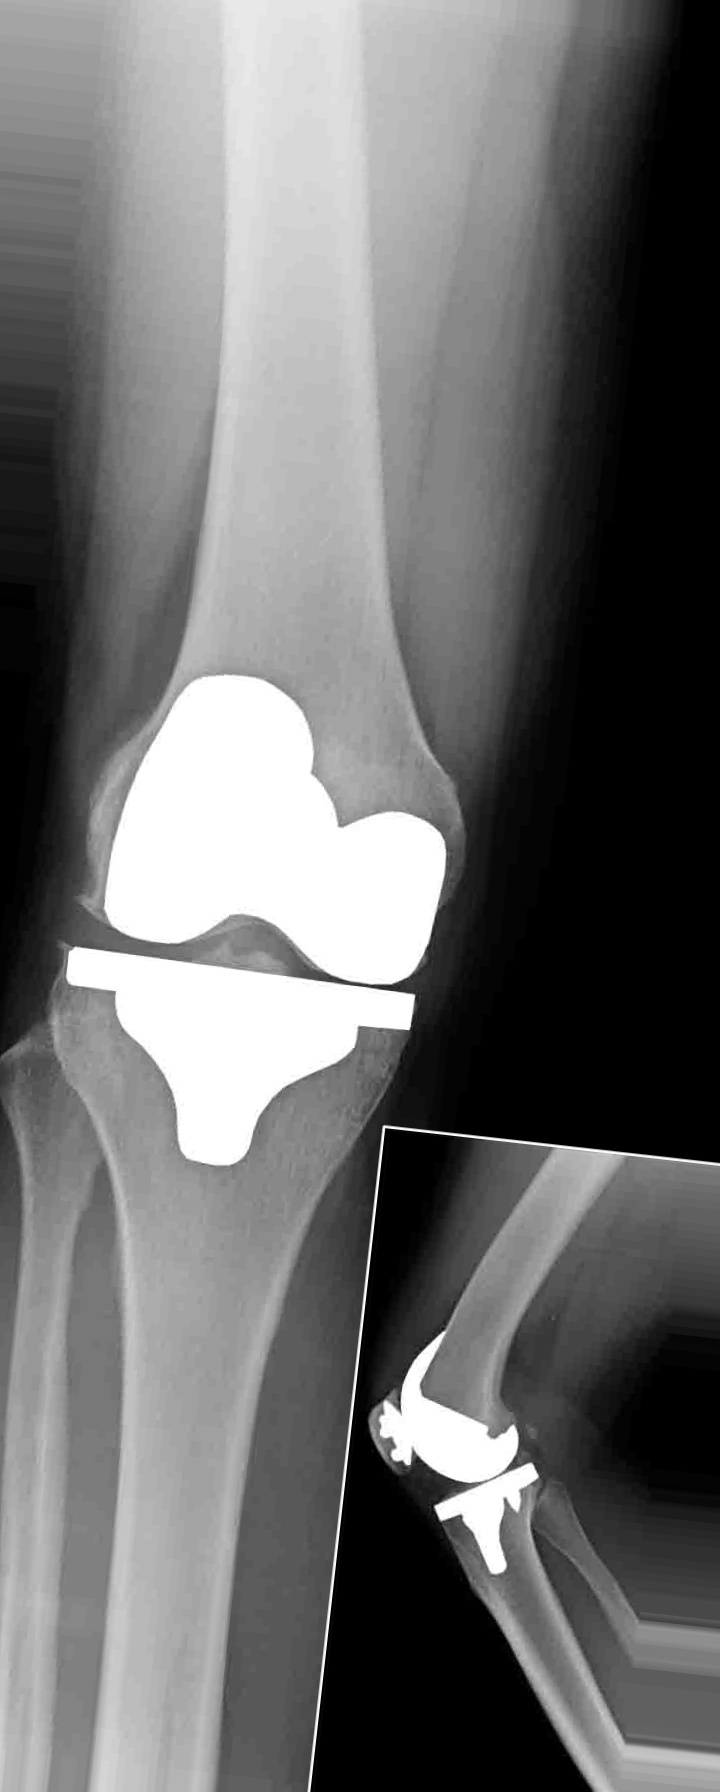Knee-TriathlonTritanium-Stryker: (62, 661, 455, 1189), (375, 1317, 542, 1577)
